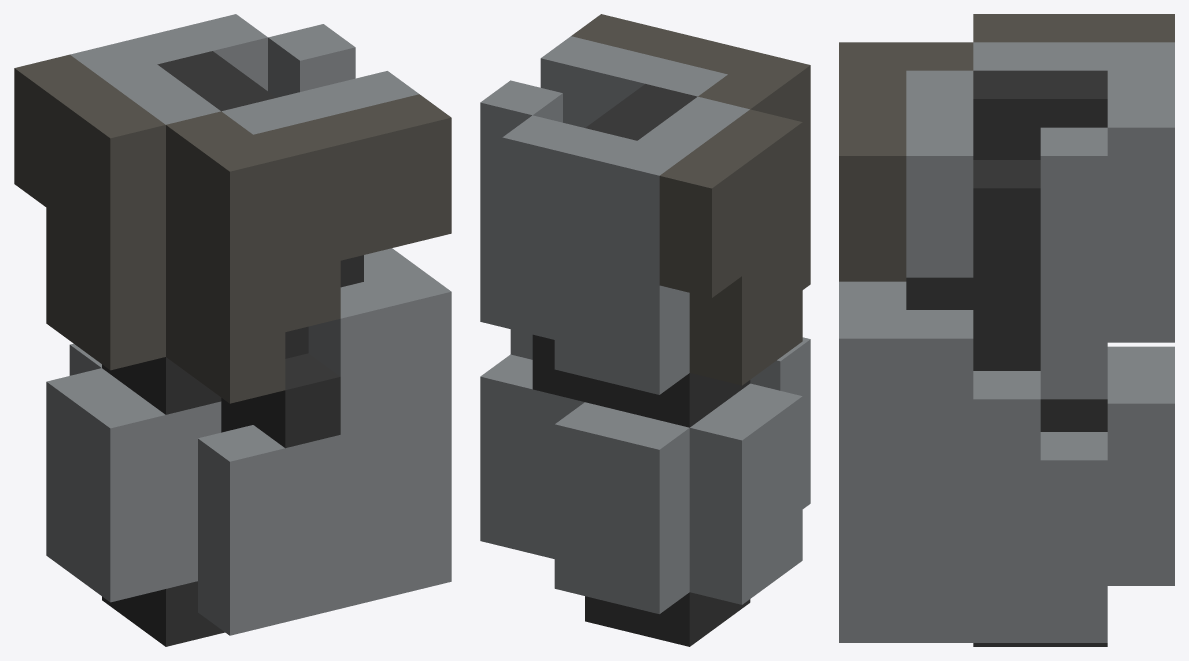
The model's file is -11-Mecha01_Arm1_R.obj.
The picture shows the model from 3 angles, left to right: view 1: azimuth 30°, elevation 25°; view 2: azimuth 150°, elevation 25°; view 3: azimuth 270°, elevation 25°; orthographic projection. The views are drawn at different scales.
Parts seen in each view (by area): view 1: Mecha01_Arm1_R; view 2: Mecha01_Arm1_R; view 3: Mecha01_Arm1_R.
Part boxes in pixels (x1=…): Mecha01_Arm1_R: x1=14, y1=14, x2=451, y2=646; Mecha01_Arm1_R: x1=480, y1=14, x2=810, y2=646; Mecha01_Arm1_R: x1=839, y1=14, x2=1174, y2=646.
Bounding box in the file's own units: 0.5 × 0.9 × 0.5.
1 material, 1 textured.
